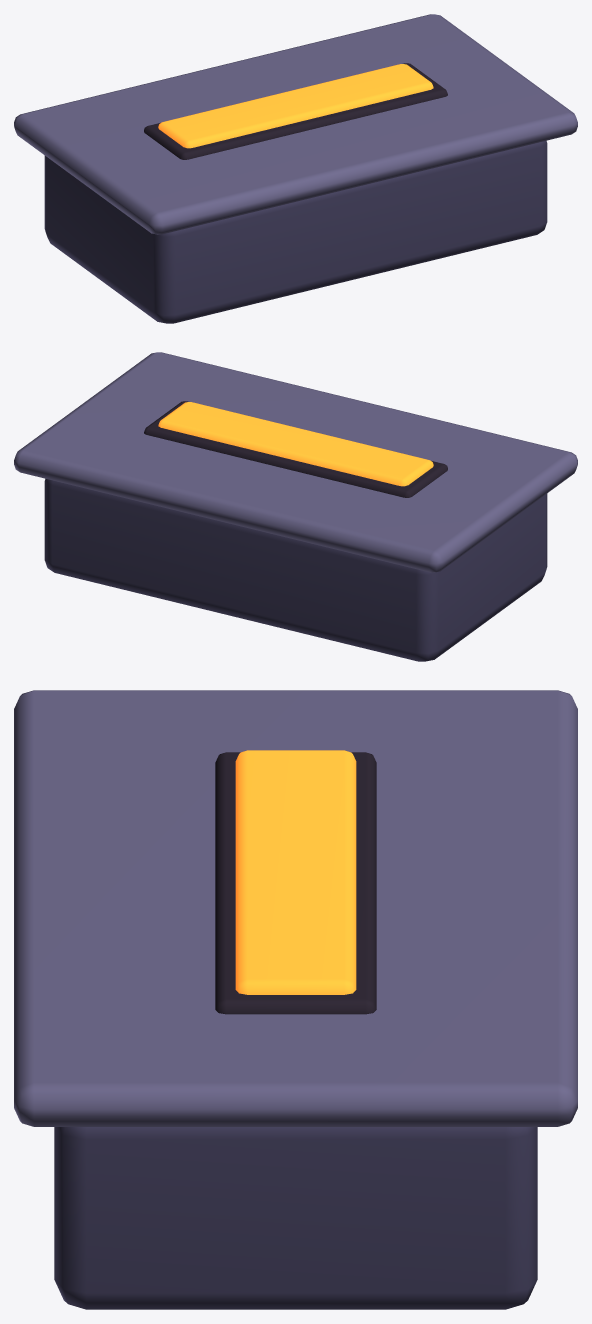
Rendered from frost_fire_table.glb.
The picture shows the model from 3 angles, top to bottom: view 1: azimuth 30°, elevation 25°; view 2: azimuth 150°, elevation 25°; view 3: azimuth 270°, elevation 25°; orthographic projection. The views are drawn at different scales.
Parts seen in each view (by area): view 1: FireTable; view 2: FireTable; view 3: FireTable.
Part boxes in pixels (x1=…): FireTable: x1=14, y1=14, x2=577, y2=323; FireTable: x1=14, y1=352, x2=577, y2=661; FireTable: x1=14, y1=690, x2=577, y2=1309.
Bounding box in the file's own units: 2.4 × 0.74 × 1.4.
